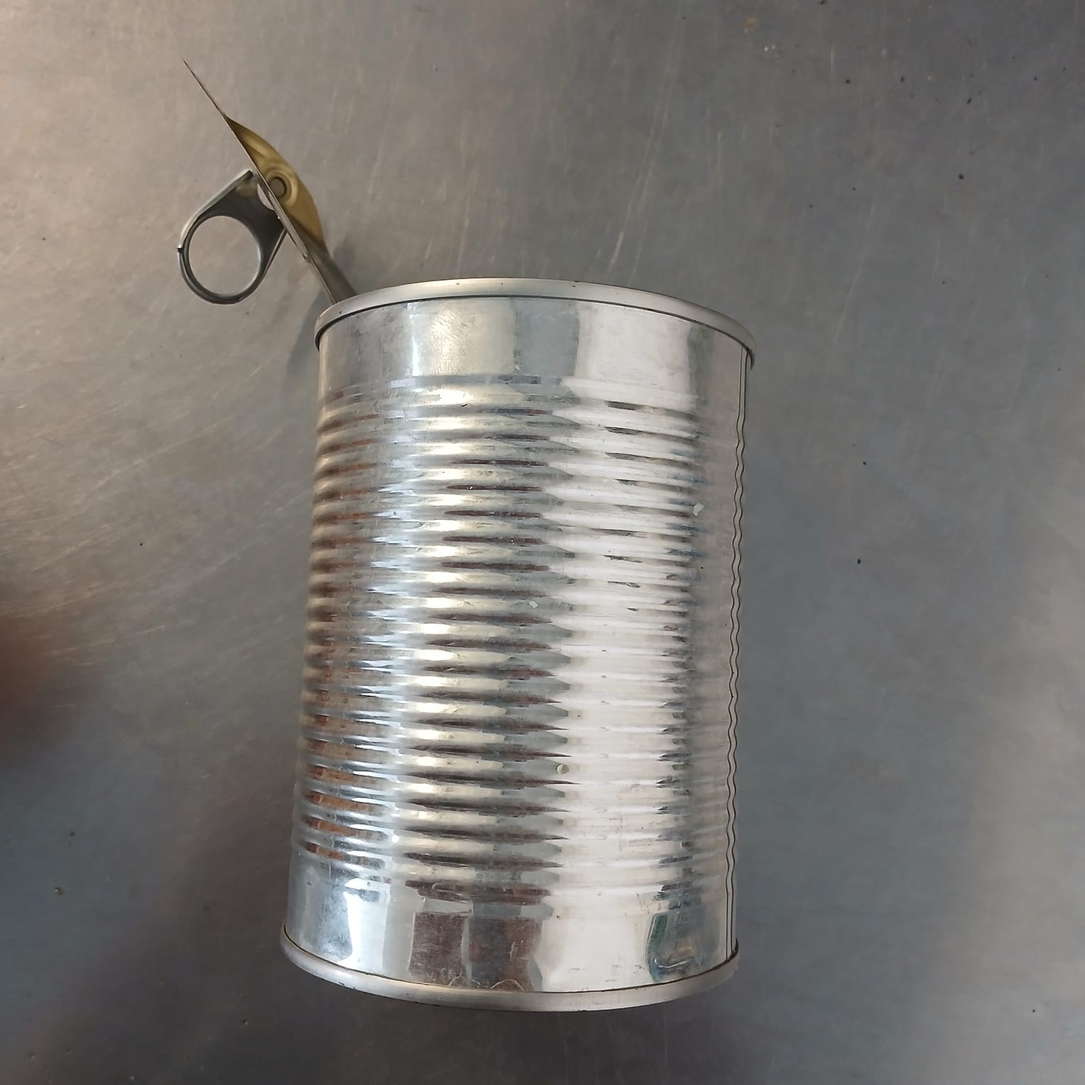Metal: (183, 53, 757, 1006)
